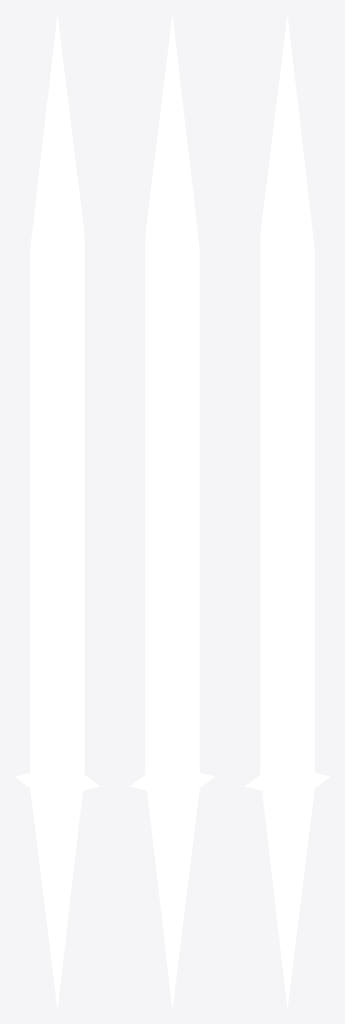
Rendered from laser1.glb.
3 renders of one model, left to right at view 1: azimuth 30°, elevation 25°; view 2: azimuth 150°, elevation 25°; view 3: azimuth 330°, elevation 25°, orthographic.
Parts seen in each view (by area): view 1: group_13; view 2: group_13; view 3: group_13.
Boxes of the visible parts, bbox=[...] form: group_13: bbox=[15, 14, 99, 1009]; group_13: bbox=[130, 14, 214, 1009]; group_13: bbox=[245, 14, 329, 1009].
Size of the model in its own units: 160 by 2790 by 160.
1 material, 1 textured.
